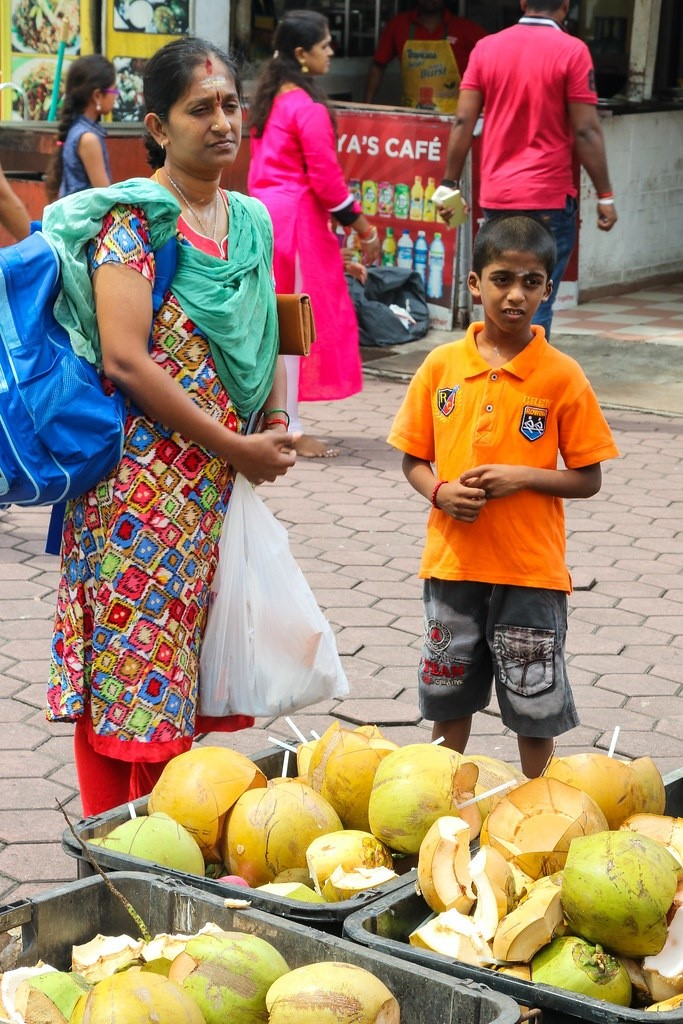face_no_mask: (143, 40, 242, 175), (466, 214, 556, 337), (272, 10, 335, 74)
